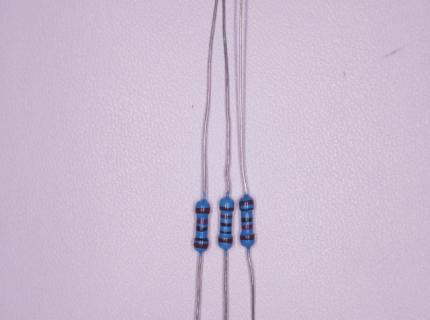Black band: (196, 225, 208, 232), (241, 206, 255, 212), (241, 217, 253, 223), (220, 229, 232, 235), (194, 237, 208, 242), (220, 222, 232, 227)
Brown band: (195, 207, 211, 215), (239, 199, 255, 207), (239, 233, 255, 241), (193, 242, 209, 249), (218, 237, 233, 244), (219, 206, 234, 212)
Red band: (196, 218, 208, 225), (241, 224, 253, 230), (220, 214, 232, 219)
